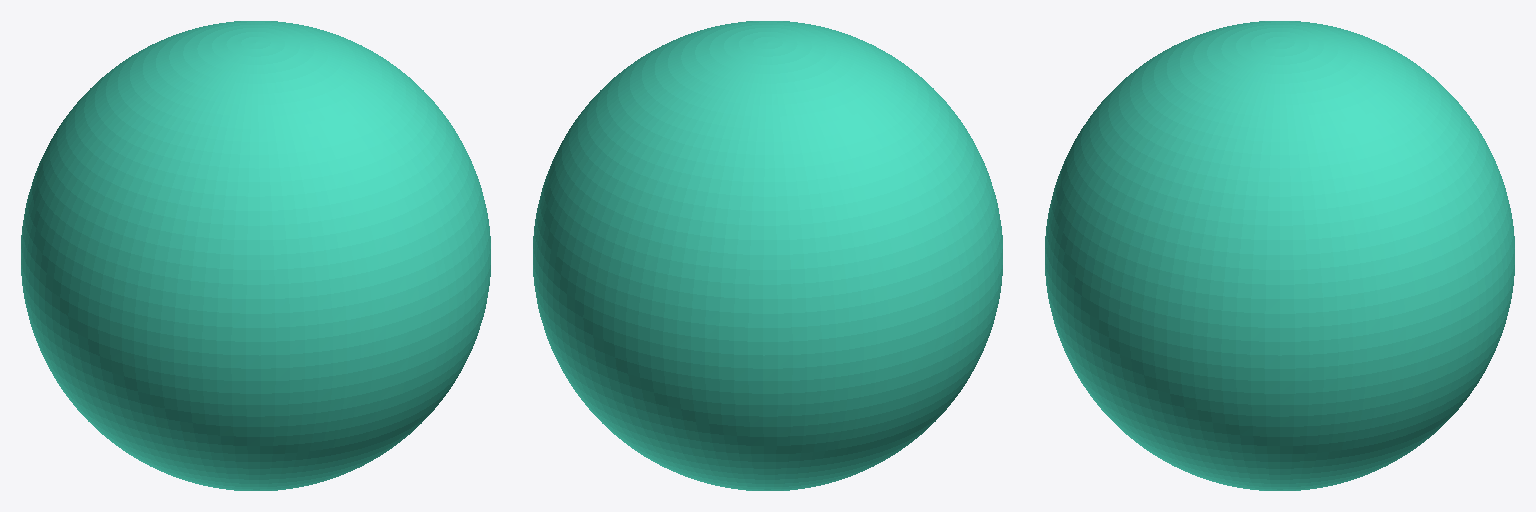
The model's file is turboSphere.obj.
3 views of the same model, side by side, from view 1: azimuth 30°, elevation 25°; view 2: azimuth 150°, elevation 25°; view 3: azimuth 270°, elevation 25° (orthographic).
Parts seen in each view (by area): view 1: Sphere001; view 2: Sphere001; view 3: Sphere001.
Boxes of the visible parts, box(x1,y1,x2,y2) form: Sphere001: box(21, 21, 490, 490); Sphere001: box(533, 21, 1002, 490); Sphere001: box(1045, 21, 1514, 490).
Size of the model in its own units: 2 by 2 by 2.